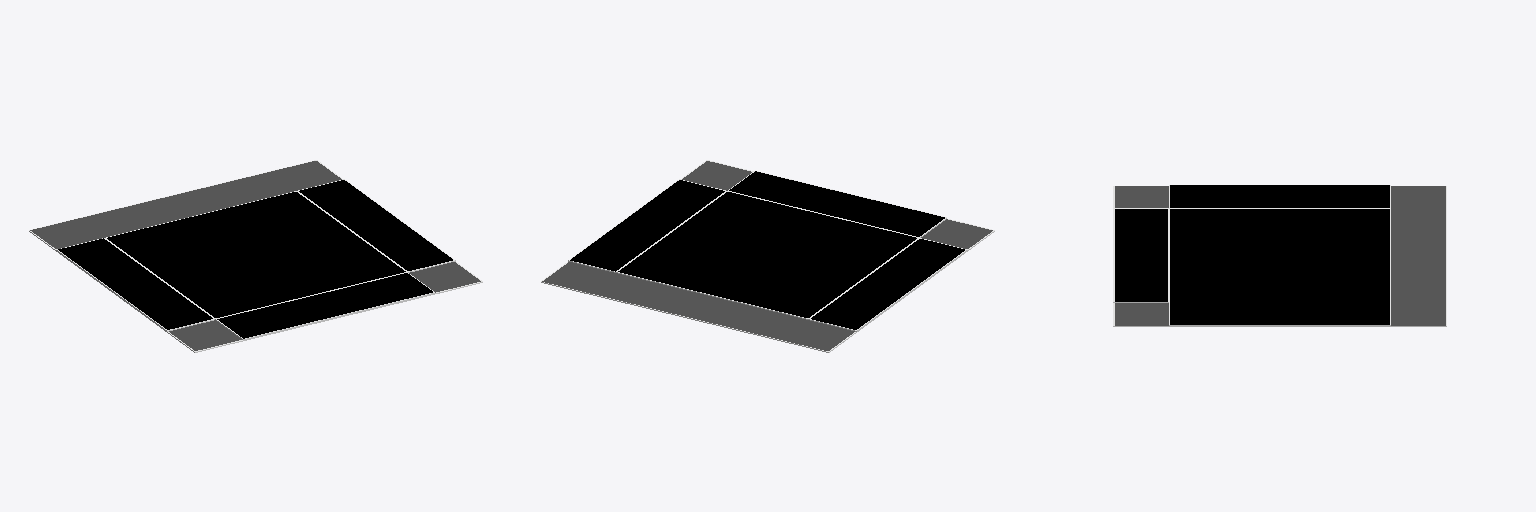
3 renders of one model, left to right at view 1: azimuth 30°, elevation 25°; view 2: azimuth 150°, elevation 25°; view 3: azimuth 270°, elevation 25°, orthographic.
Parts seen in each view (by area): view 1: Cube3_extract3, Cube1_extract4; view 2: Cube3_extract3, Cube1_extract4; view 3: Cube3_extract3, Cube1_extract4.
Part boxes in pixels (bbox=[...]): Cube3_extract3: bbox=[56, 179, 455, 339]; Cube1_extract4: bbox=[29, 160, 482, 352]; Cube3_extract3: bbox=[568, 171, 967, 331]; Cube1_extract4: bbox=[541, 160, 994, 352]; Cube3_extract3: bbox=[1113, 185, 1390, 325]; Cube1_extract4: bbox=[1113, 186, 1446, 326].
Bounding box in the file's own units: 30 × 0.2 × 30.
2 materials, 2 textured.